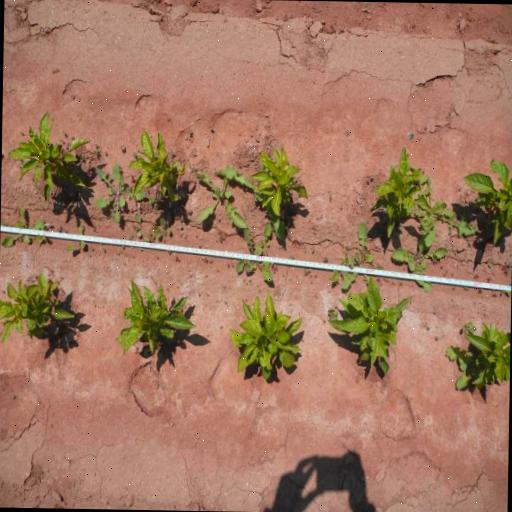plant: (326, 273, 414, 377), (8, 113, 89, 205), (227, 290, 304, 384), (117, 276, 197, 360), (0, 266, 77, 347), (369, 145, 422, 241), (463, 155, 512, 247), (130, 126, 188, 203), (252, 146, 311, 217), (471, 322, 511, 392)
weed: (213, 163, 291, 247), (414, 173, 478, 248), (191, 166, 249, 229), (391, 236, 450, 296), (341, 218, 384, 291), (93, 166, 145, 224), (234, 226, 274, 285), (0, 207, 46, 249), (444, 345, 475, 392), (331, 243, 349, 284), (66, 222, 87, 254), (132, 212, 151, 242), (260, 223, 272, 268), (153, 216, 173, 240), (147, 189, 163, 210), (460, 319, 476, 334), (326, 309, 338, 320), (503, 260, 511, 276), (93, 140, 100, 158), (201, 256, 214, 264), (271, 262, 278, 274), (80, 154, 90, 162), (486, 257, 492, 269), (150, 220, 158, 228), (218, 234, 226, 242), (303, 268, 311, 276), (168, 150, 176, 157), (322, 256, 330, 263), (463, 284, 470, 292), (56, 225, 64, 232), (118, 143, 124, 151), (476, 288, 484, 294), (187, 128, 193, 135), (288, 254, 294, 260), (434, 336, 440, 342), (328, 192, 332, 200), (93, 224, 97, 232), (133, 151, 137, 158), (426, 326, 430, 332), (312, 249, 314, 254)
